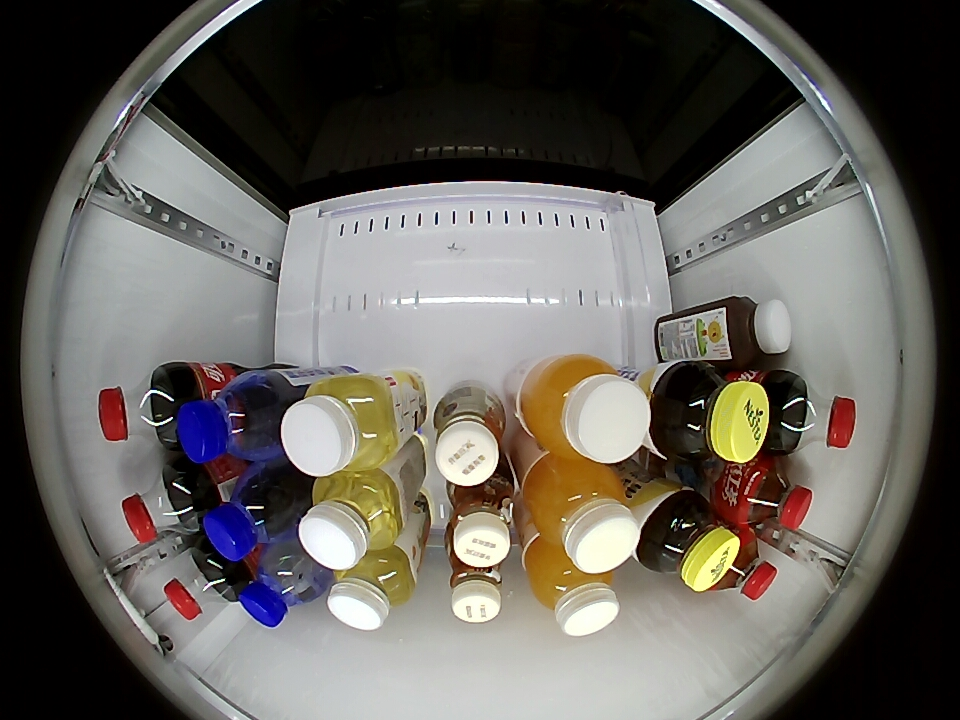aerbeisi: (175, 374, 283, 466), (203, 469, 301, 561), (240, 544, 324, 628)
binghongcha: (732, 458, 814, 532), (711, 529, 778, 601)
chacui: (652, 361, 771, 464), (637, 486, 739, 591)
chapai2: (282, 373, 400, 477), (299, 470, 405, 570), (328, 547, 416, 631)
kafei: (432, 391, 506, 486), (446, 471, 514, 568), (447, 546, 503, 623)
kele-b: (97, 368, 182, 447), (774, 375, 857, 454), (122, 467, 205, 544), (165, 545, 242, 621)
weic: (517, 354, 651, 464), (522, 454, 639, 573), (524, 536, 620, 636)
youyanggudong: (722, 295, 793, 364)
